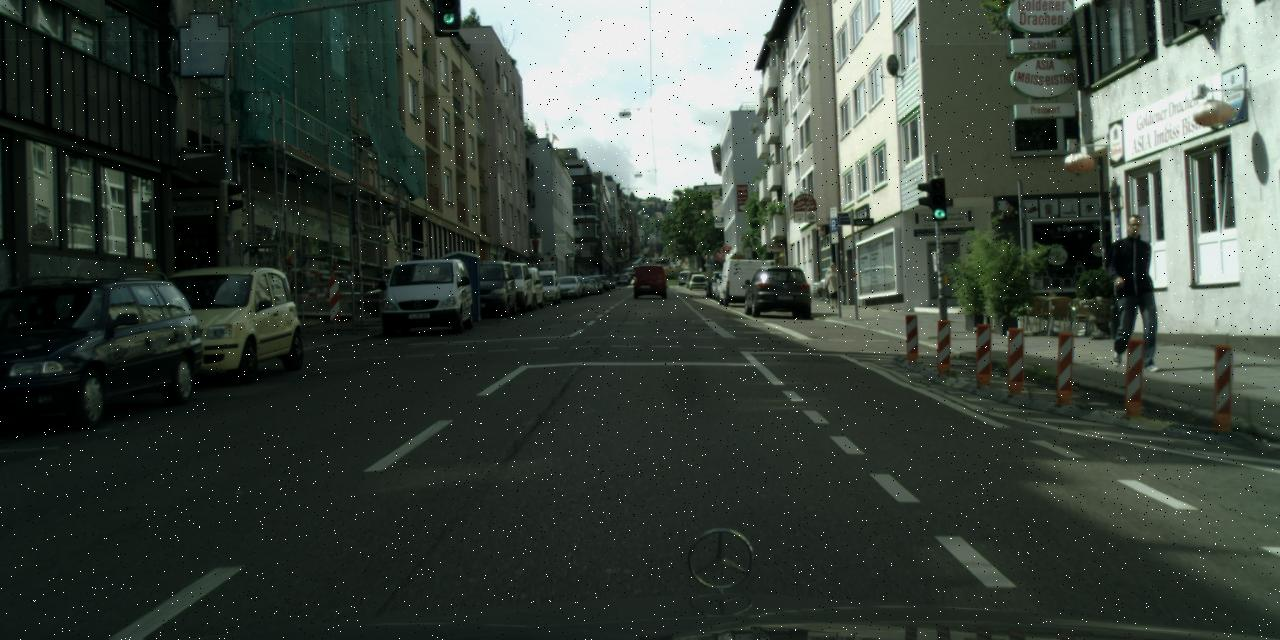ped: (1103, 215, 1165, 366), (823, 262, 842, 307)
